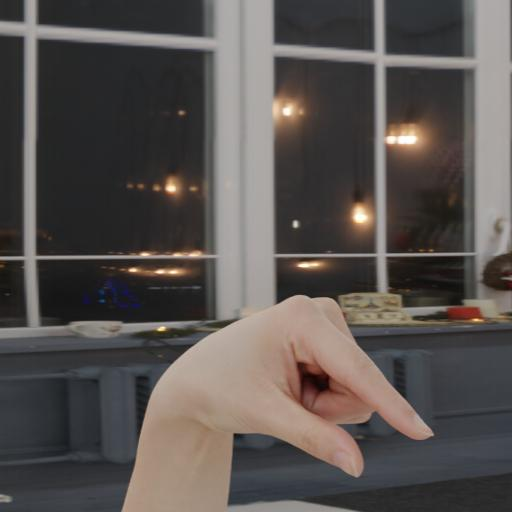Q: (129, 290, 445, 488)
